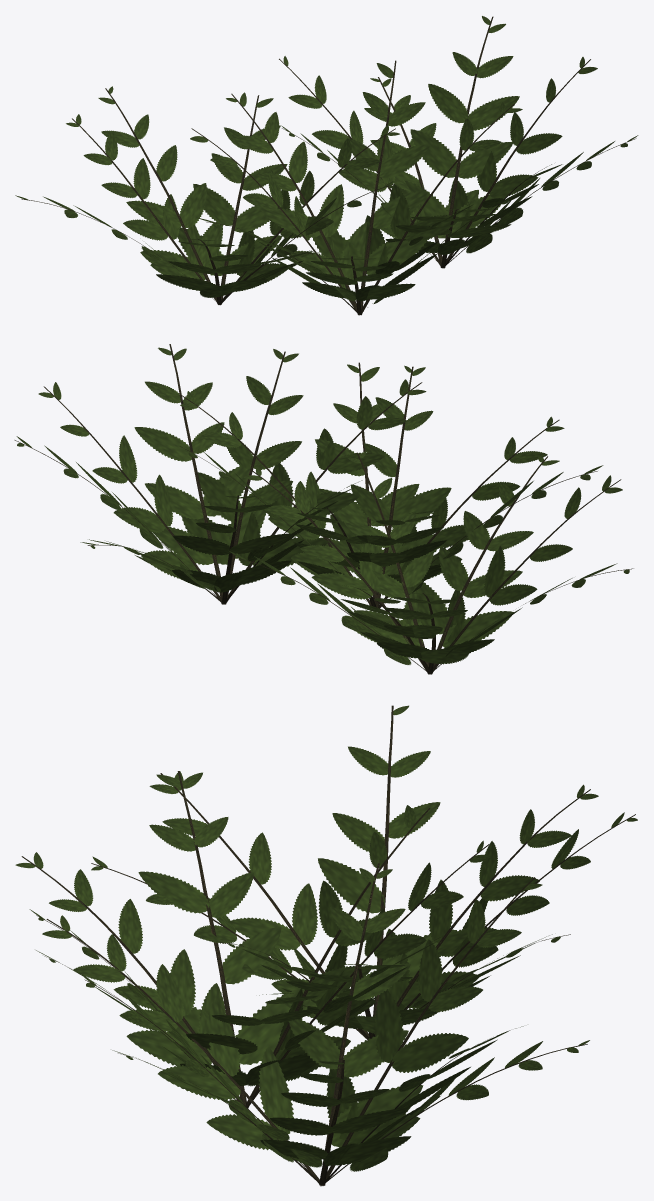
File: rock_fern_v01_LOD1.fbx
3 views of the same model, one above another, from view 1: azimuth 30°, elevation 25°; view 2: azimuth 150°, elevation 25°; view 3: azimuth 270°, elevation 25° (orthographic). The views are drawn at different scales.
Visible parts, largest first — view 1: rock_fern_v01_LOD1; view 2: rock_fern_v01_LOD1; view 3: rock_fern_v01_LOD1.
Part boxes in pixels (<box>): rock_fern_v01_LOD1: <box>15,16,638,315</box>; rock_fern_v01_LOD1: <box>14,344,633,674</box>; rock_fern_v01_LOD1: <box>15,705,637,1186</box>.
Size of the model in its own units: 35.2 by 10.66 by 24.41.
2 materials, 2 textured.
